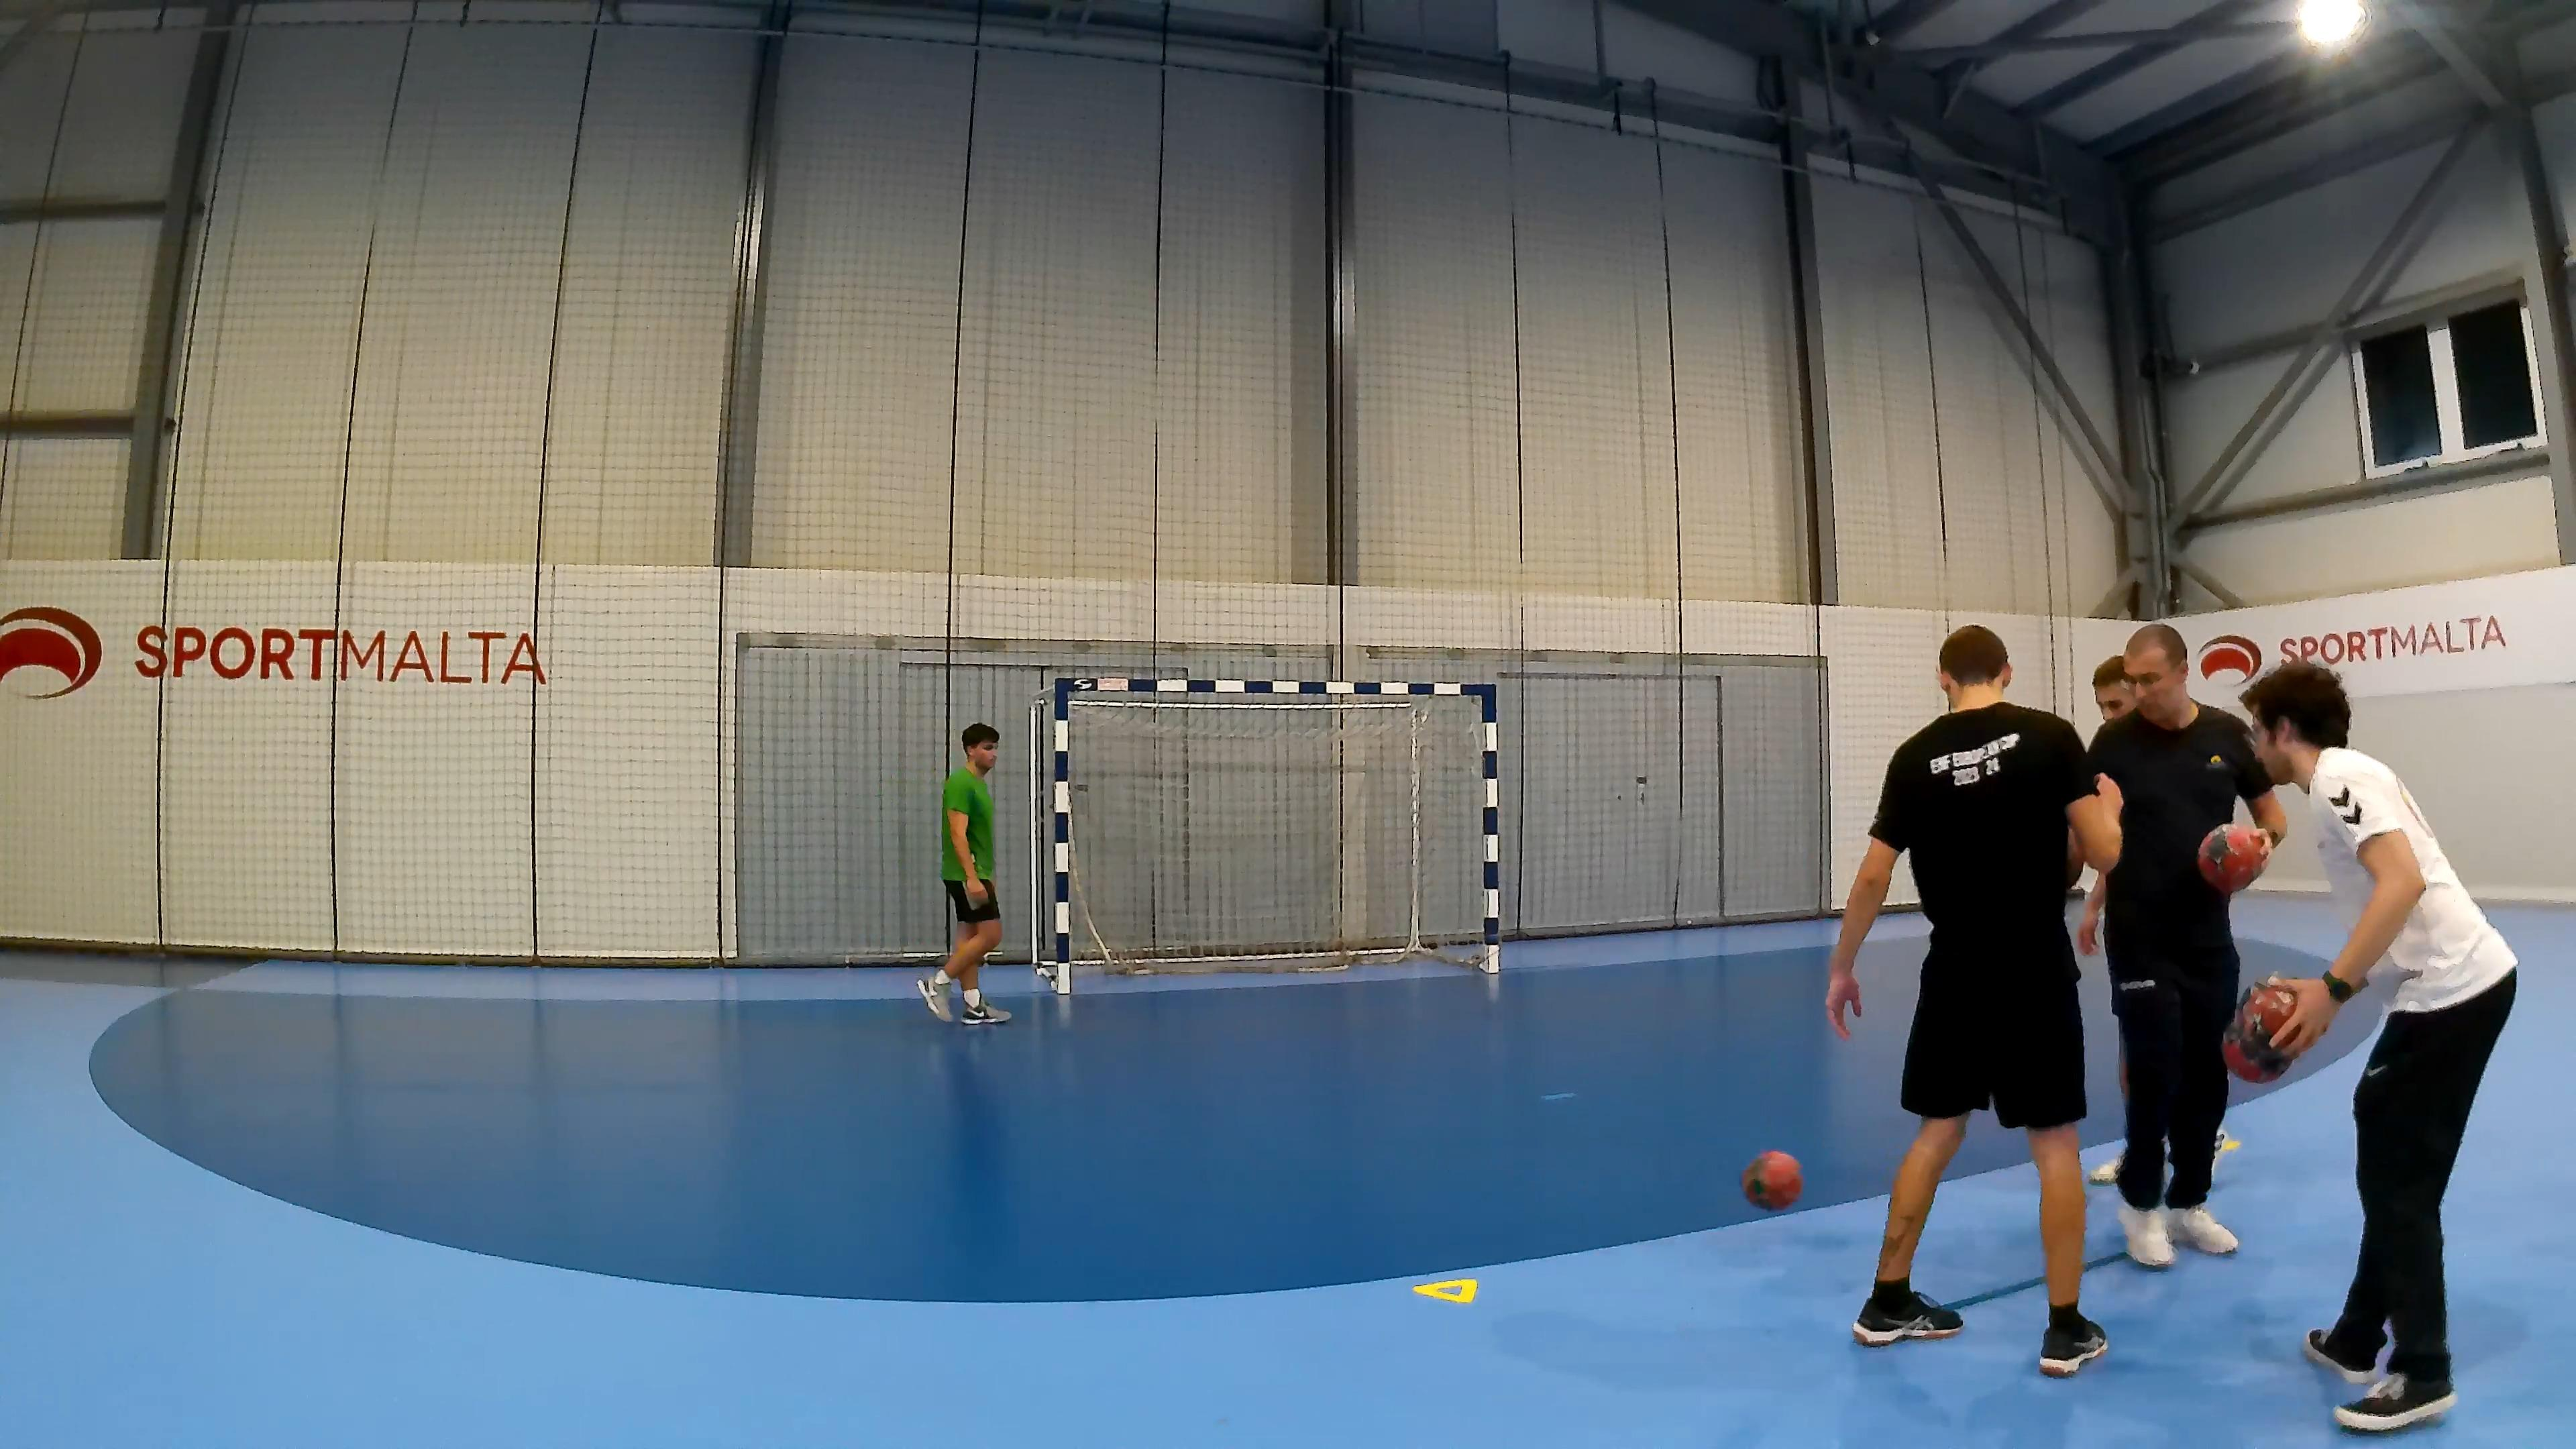handball: (2220, 980, 2300, 1083), (2197, 823, 2268, 893), (1741, 1148, 1803, 1210)
